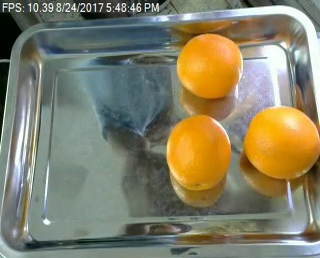Orange: (242, 105, 319, 181), (165, 114, 232, 190), (176, 33, 244, 99)
